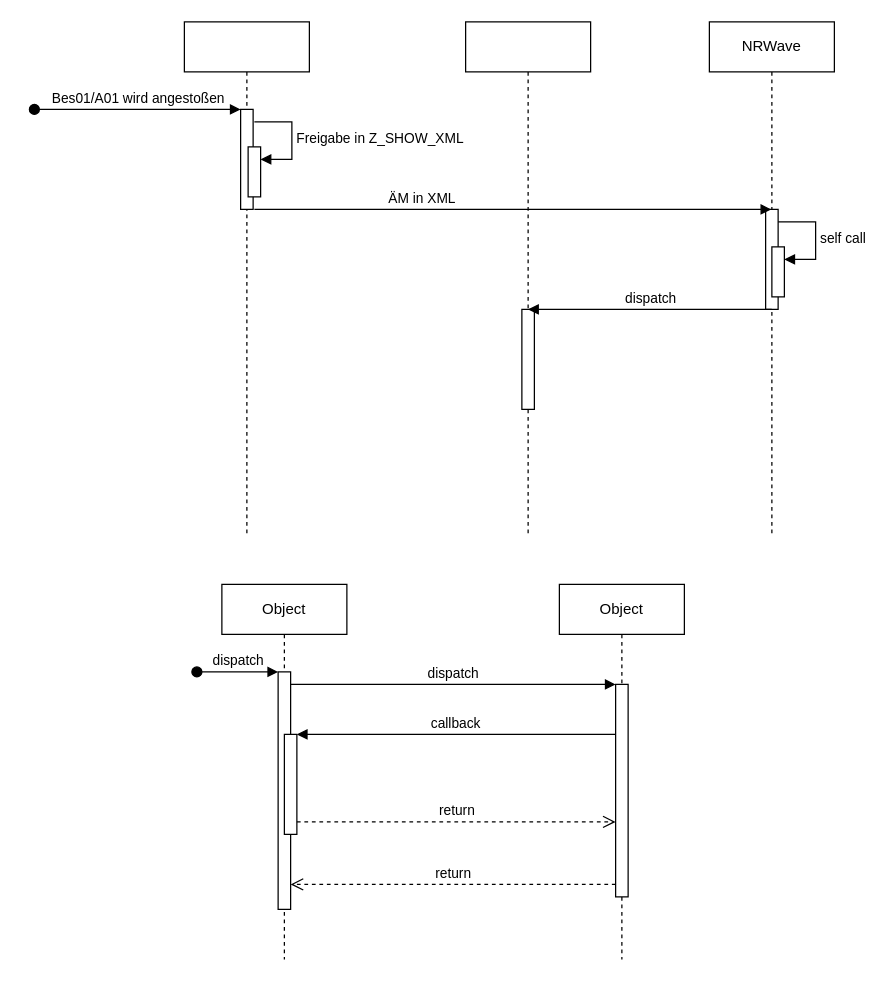
This 889x981 diagram has some shape labels left out. The box of each missing label's shape, as (x1, y1, x2, y2) in pixels:
FuBa: (464, 21, 591, 534)
my.NRW: (183, 21, 309, 534)
